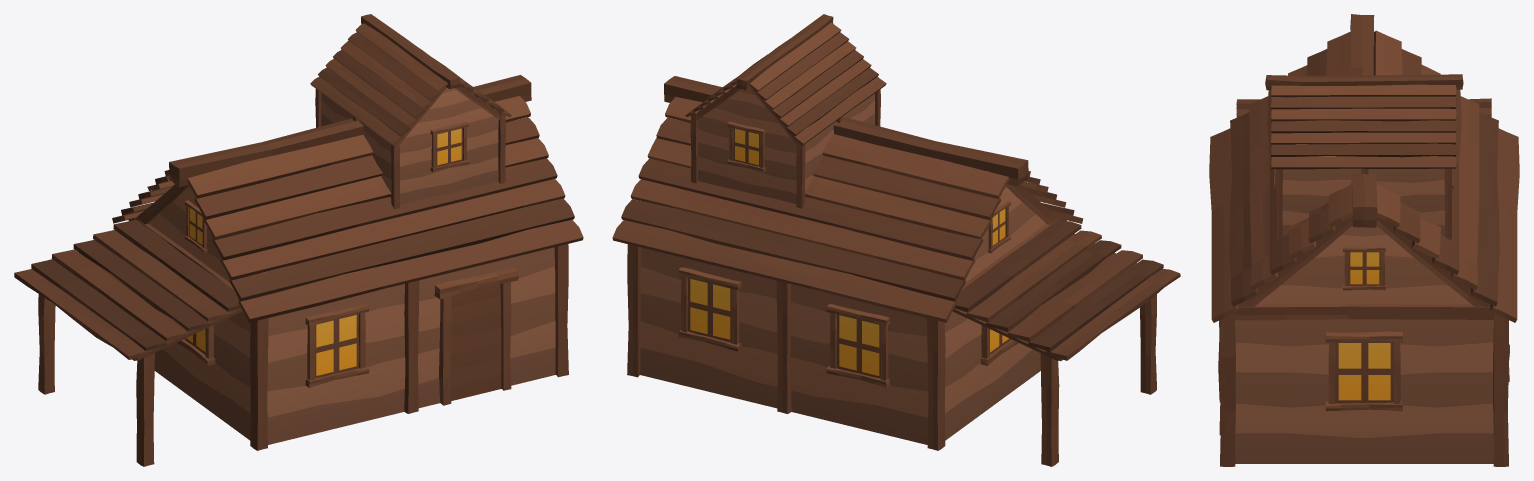
The model's file is secret-house.glb.
The picture shows the model from 3 angles, left to right: view 1: azimuth 30°, elevation 25°; view 2: azimuth 150°, elevation 25°; view 3: azimuth 270°, elevation 25°; orthographic projection. The views are drawn at different scales.
Parts seen in each view (by area): view 1: secret house; view 2: secret house; view 3: secret house.
Part boxes in pixels (<box>): secret house: <box>14,14,583,466</box>; secret house: <box>612,14,1180,466</box>; secret house: <box>1209,14,1519,466</box>.
Bounding box in the file's own units: 8.43 × 5.36 × 4.45.
1 material, 1 textured.
